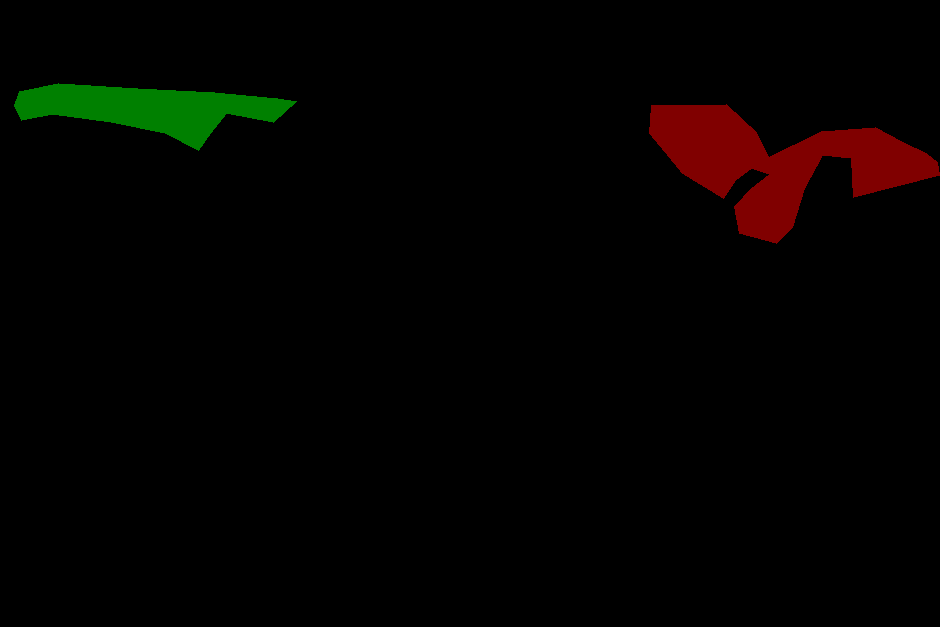fire: (649, 104, 939, 243), (14, 83, 296, 150)
